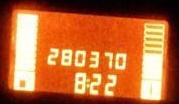0: (73, 47, 86, 67), (115, 51, 126, 69)
2: (104, 72, 117, 95), (89, 71, 101, 94), (47, 46, 58, 64)
3: (88, 49, 99, 68)
7: (102, 50, 113, 68)
8: (72, 70, 85, 93), (60, 47, 72, 66)
X: (85, 77, 89, 87)
